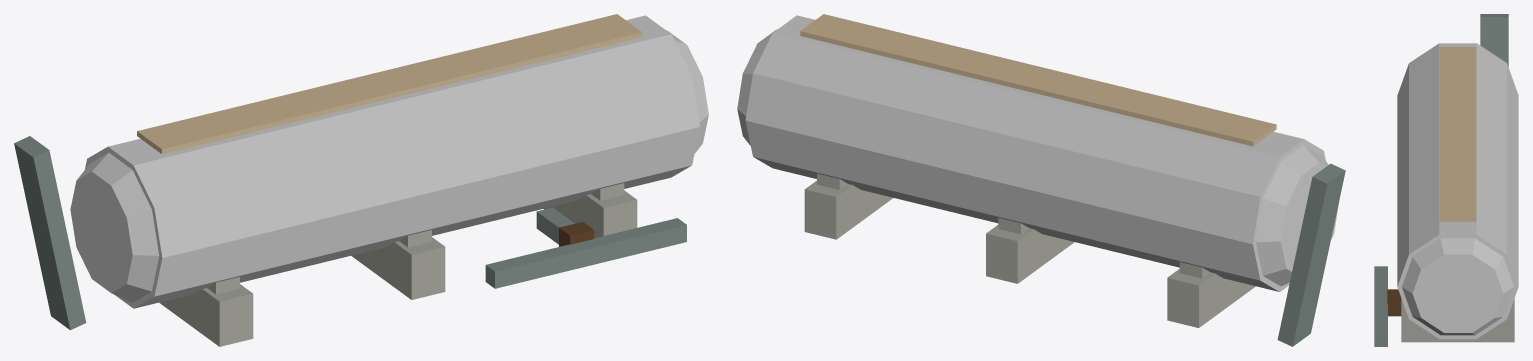
File: SM_TanqueCombustible_v2_LOD1.fbx
The picture shows the model from 3 angles, left to right: view 1: azimuth 30°, elevation 25°; view 2: azimuth 150°, elevation 25°; view 3: azimuth 270°, elevation 25°; orthographic projection. The views are drawn at different scales.
Parts seen in each view (by area): view 1: SM_bloques.tanque_combustible_v2_LOD1; view 2: SM_bloques.tanque_combustible_v2_LOD1; view 3: SM_bloques.tanque_combustible_v2_LOD1.
Part boxes in pixels (x1,y1,x2,y2): SM_bloques.tanque_combustible_v2_LOD1: (14,14,708,346); SM_bloques.tanque_combustible_v2_LOD1: (737,14,1345,346); SM_bloques.tanque_combustible_v2_LOD1: (1374,14,1518,346).
Size of the model in its own units: 13.1 by 3.7 by 3.57.
